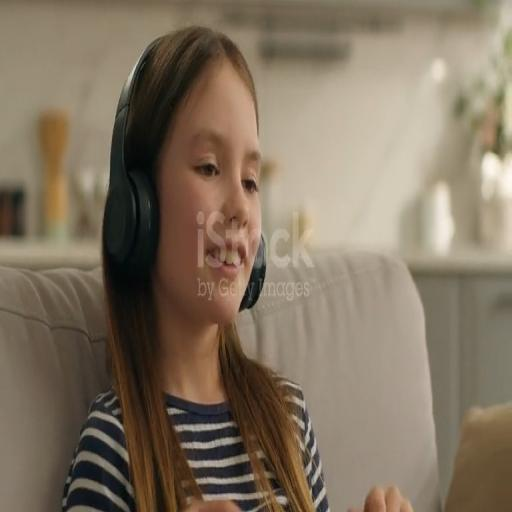earphone: (104, 11, 269, 312)
